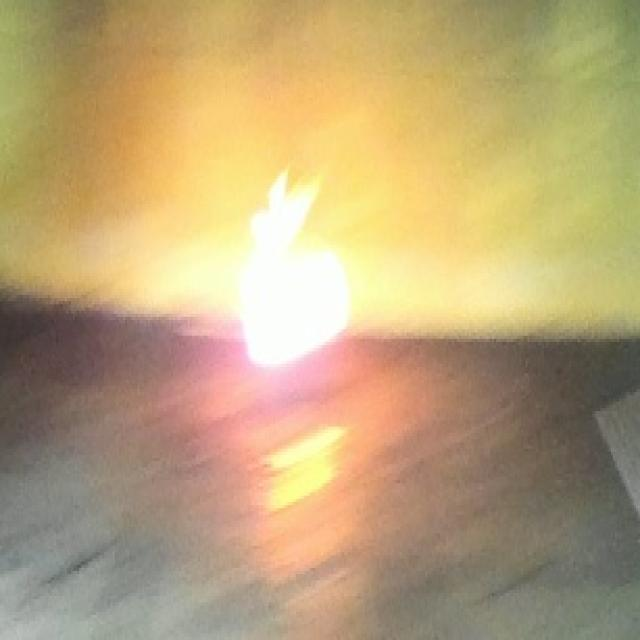Fire: (240, 166, 349, 367)
